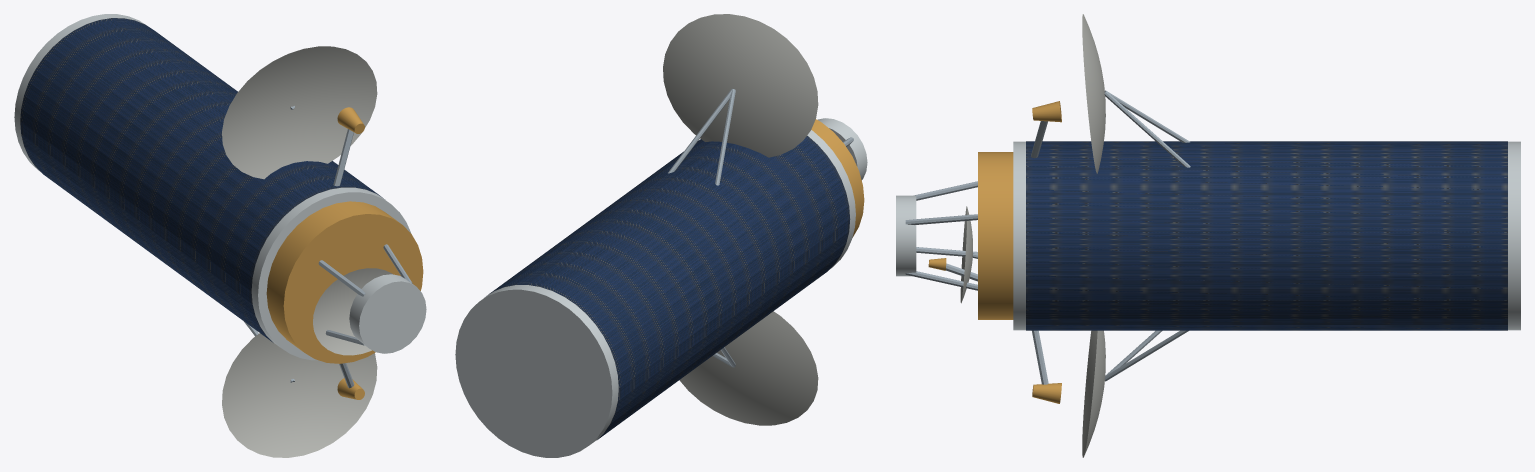
File: ref-hs-389-20315.glb
The picture shows the model from 3 angles, left to right: view 1: azimuth 30°, elevation 25°; view 2: azimuth 150°, elevation 25°; view 3: azimuth 270°, elevation 25°; orthographic projection. The views are drawn at different scales.
Visible parts, largest first — view 1: Body-mounted solar cells, Communications reflector (×2), Despun equipment deck, Solar drum core, Antenna tower platform, Deck-mounted reflector, Feed horn, Offset feed boom; view 2: Body-mounted solar cells, Communications reflector (×2), Solar drum core, Despun equipment deck, Shell hinge strut (×2), Antenna tower platform; view 3: Body-mounted solar cells, Despun equipment deck, Solar drum core, Communications reflector (×2), Antenna tower platform, Deck-mounted reflector.
Part boxes in pixels (<box>): Body-mounted solar cells: <box>20,18,383,342</box>; Communications reflector (×2): <box>222,46,377,457</box>; Despun equipment deck: <box>266,201,423,363</box>; Solar drum core: <box>14,14,411,360</box>; Antenna tower platform: <box>349,274,426,353</box>; Deck-mounted reflector: <box>313,268,393,355</box>; Feed horn: <box>337,107,364,133</box>; Offset feed boom: <box>333,129,353,186</box>; Body-mounted solar cells: <box>487,135,850,439</box>; Communications reflector (×2): <box>663,14,818,425</box>; Solar drum core: <box>455,130,855,457</box>; Despun equipment deck: <box>811,119,864,237</box>; Shell hinge strut (×2): <box>668,88,735,185</box>; Antenna tower platform: <box>817,118,867,180</box>; Body-mounted solar cells: <box>1026,141,1507,330</box>; Despun equipment deck: <box>978,152,1013,319</box>; Solar drum core: <box>1013,141,1520,330</box>; Communications reflector (×2): <box>1082,14,1105,457</box>; Antenna tower platform: <box>896,195,916,276</box>; Deck-mounted reflector: <box>960,206,972,303</box>.
Size of the model in its own units: 3.61 by 8.91 by 11.91.
Materials: 5 (1 with a texture image).
